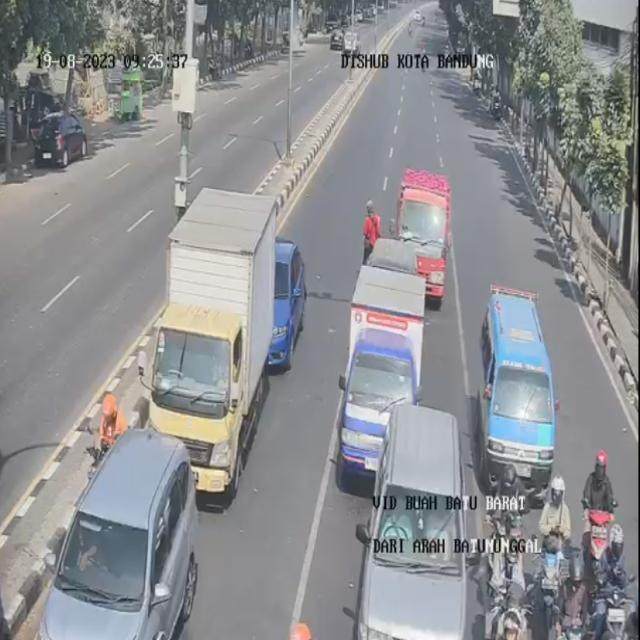cars: (31, 426, 196, 640), (356, 406, 466, 640), (478, 297, 563, 488), (262, 238, 308, 373)
motorcycle: (534, 469, 570, 623), (80, 380, 132, 479), (474, 491, 525, 582), (588, 524, 628, 628), (582, 454, 614, 576), (549, 551, 587, 640), (481, 538, 528, 607), (489, 603, 534, 640)
truck: (141, 188, 276, 513), (339, 264, 424, 486), (389, 170, 453, 312)
